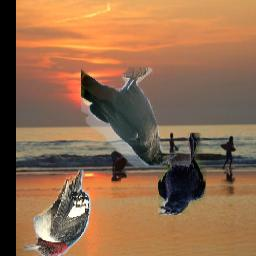Crow: (81, 67, 177, 166), (158, 133, 206, 215)
Woodpecker: (23, 170, 91, 256)
